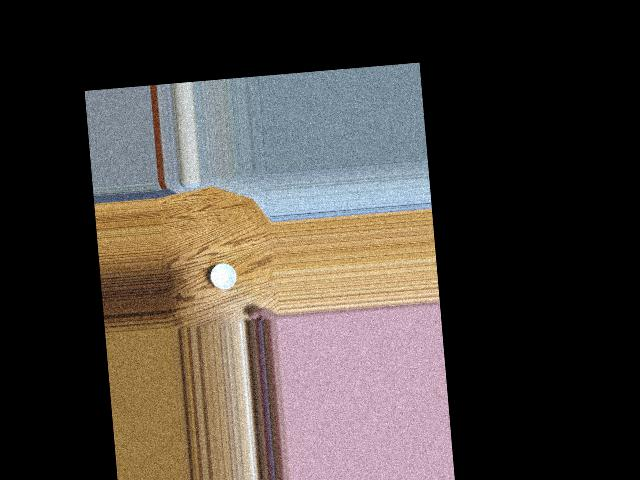cotage: (210, 261, 240, 292)
